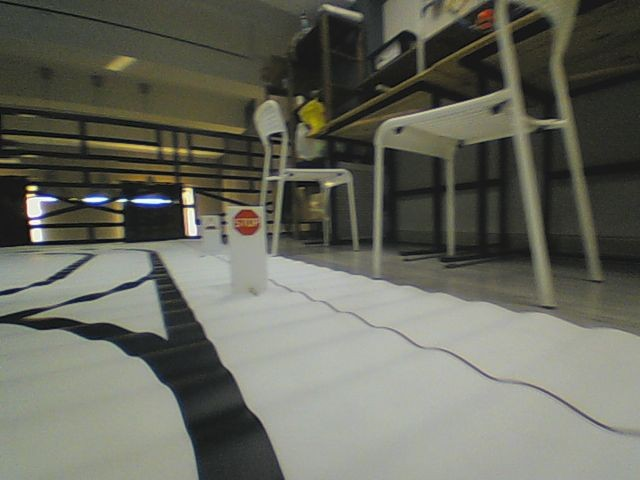Stop: (231, 208, 261, 236)
